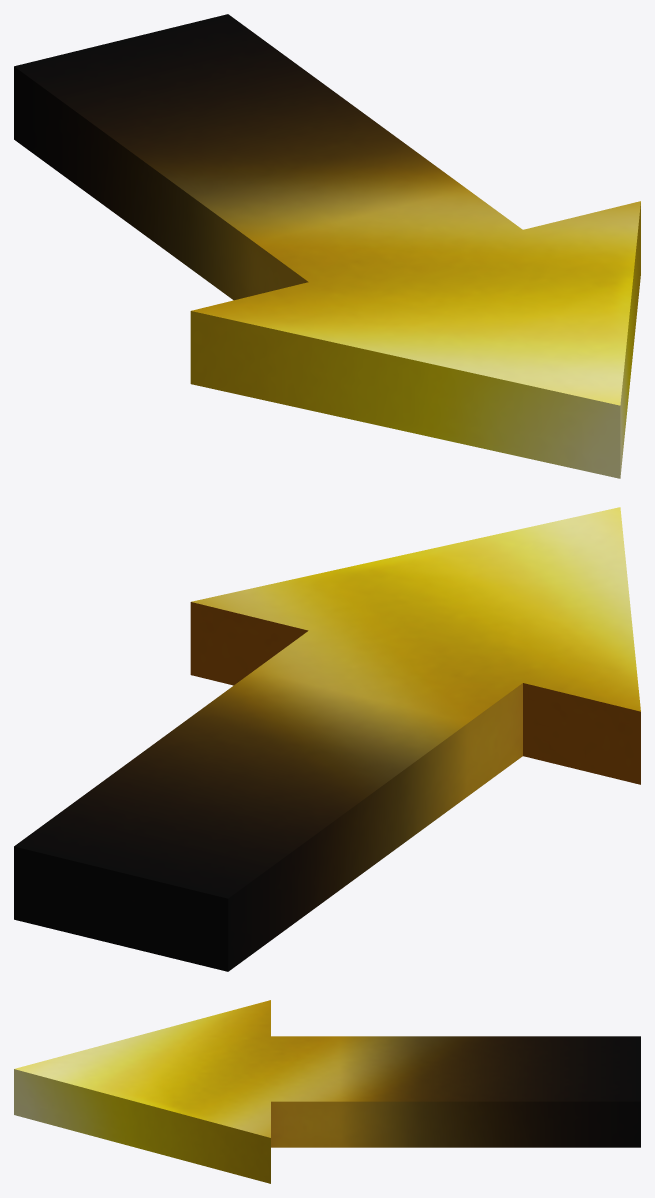
Rendered from jiantou.FBX.
3 views of the same model, one above another, from view 1: azimuth 30°, elevation 25°; view 2: azimuth 150°, elevation 25°; view 3: azimuth 270°, elevation 25° (orthographic). The views are drawn at different scales.
Parts seen in each view (by area): view 1: jiantou; view 2: jiantou; view 3: jiantou.
Boxes of the visible parts, bbox=[...] form: jiantou: bbox=[14, 14, 640, 478]; jiantou: bbox=[14, 507, 640, 971]; jiantou: bbox=[14, 1000, 640, 1183].
Size of the model in its own units: 9.93 by 1.54 by 19.07.
